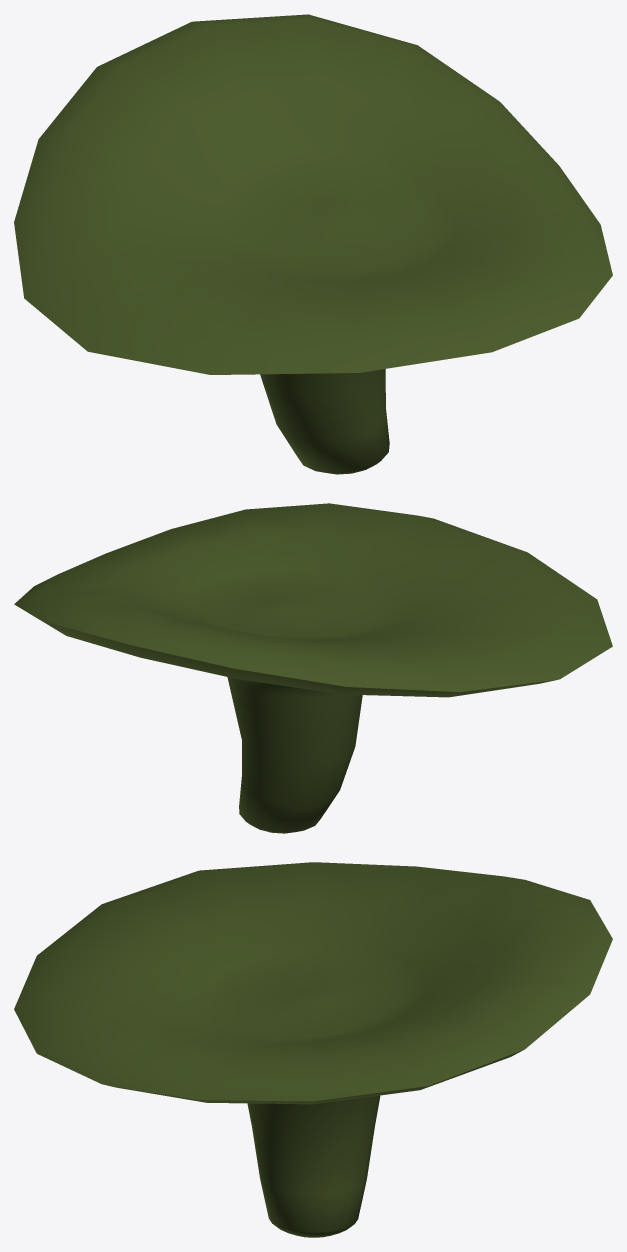
The model's file is SM_Plante_plate_02.fbx.
The picture shows the model from 3 angles, top to bottom: view 1: azimuth 30°, elevation 25°; view 2: azimuth 150°, elevation 25°; view 3: azimuth 270°, elevation 25°; orthographic projection. The views are drawn at different scales.
Visible parts, largest first — view 1: Plante_plate_01_low; view 2: Plante_plate_01_low; view 3: Plante_plate_01_low.
Boxes of the visible parts, left/top/right/bottom form: Plante_plate_01_low: left=14, top=14, right=612, bottom=474; Plante_plate_01_low: left=14, top=503, right=612, bottom=833; Plante_plate_01_low: left=14, top=862, right=612, bottom=1237.
Size of the model in its own units: 46.68 by 27.52 by 48.71.
